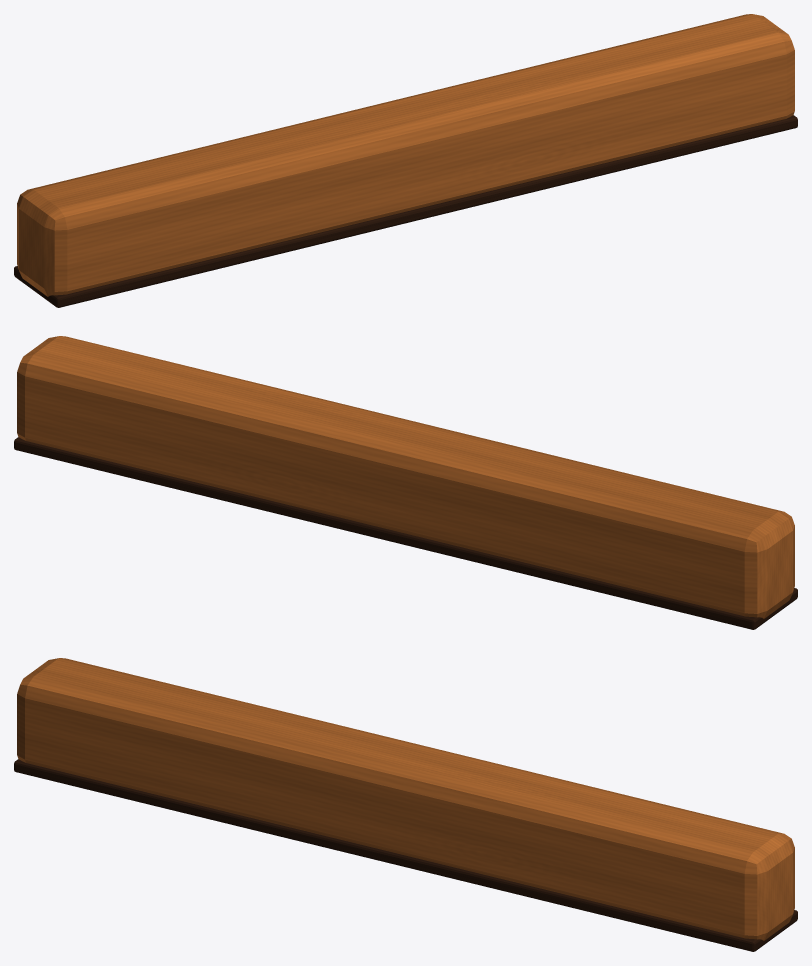
The model's file is forest_bridge_rail.glb.
3 renders of one model, top to bottom at view 1: azimuth 30°, elevation 25°; view 2: azimuth 150°, elevation 25°; view 3: azimuth 330°, elevation 25°, orthographic.
Parts seen in each view (by area): view 1: Bridge timber rail, Rail underside shadow; view 2: Bridge timber rail, Rail underside shadow; view 3: Bridge timber rail, Rail underside shadow.
Boxes of the visible parts, x1,y1,x2,y2 form: Bridge timber rail: (17, 14, 794, 296); Rail underside shadow: (14, 115, 797, 307); Bridge timber rail: (17, 336, 794, 618); Rail underside shadow: (14, 437, 797, 629); Bridge timber rail: (17, 658, 794, 940); Rail underside shadow: (14, 759, 797, 951).
Bounding box in the file's own units: 1.02 × 0.12 × 0.105.
2 materials, 2 textured.
